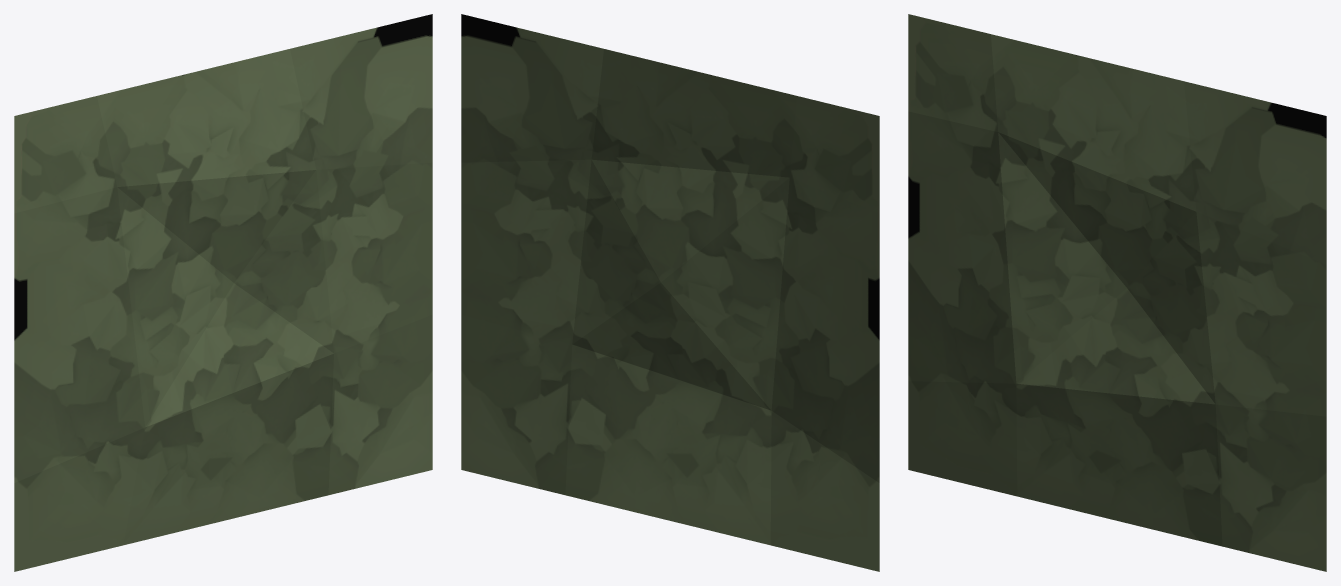
The model's file is SM_Gen_Env_Ivy_03.gltf.
3 views of the same model, side by side, from view 1: azimuth 30°, elevation 25°; view 2: azimuth 150°, elevation 25°; view 3: azimuth 330°, elevation 25° (orthographic).
Visible parts, largest first — view 1: SM_Gen_Env_Ivy_03; view 2: SM_Gen_Env_Ivy_03; view 3: SM_Gen_Env_Ivy_03.
Boxes of the visible parts, x1=… form: SM_Gen_Env_Ivy_03: x1=14, y1=14, x2=432, y2=571; SM_Gen_Env_Ivy_03: x1=461, y1=14, x2=879, y2=571; SM_Gen_Env_Ivy_03: x1=908, y1=14, x2=1326, y2=571.
Size of the model in its own units: 1.57 by 1.63 by 0.0742.
Materials: 1 (1 with a texture image).
